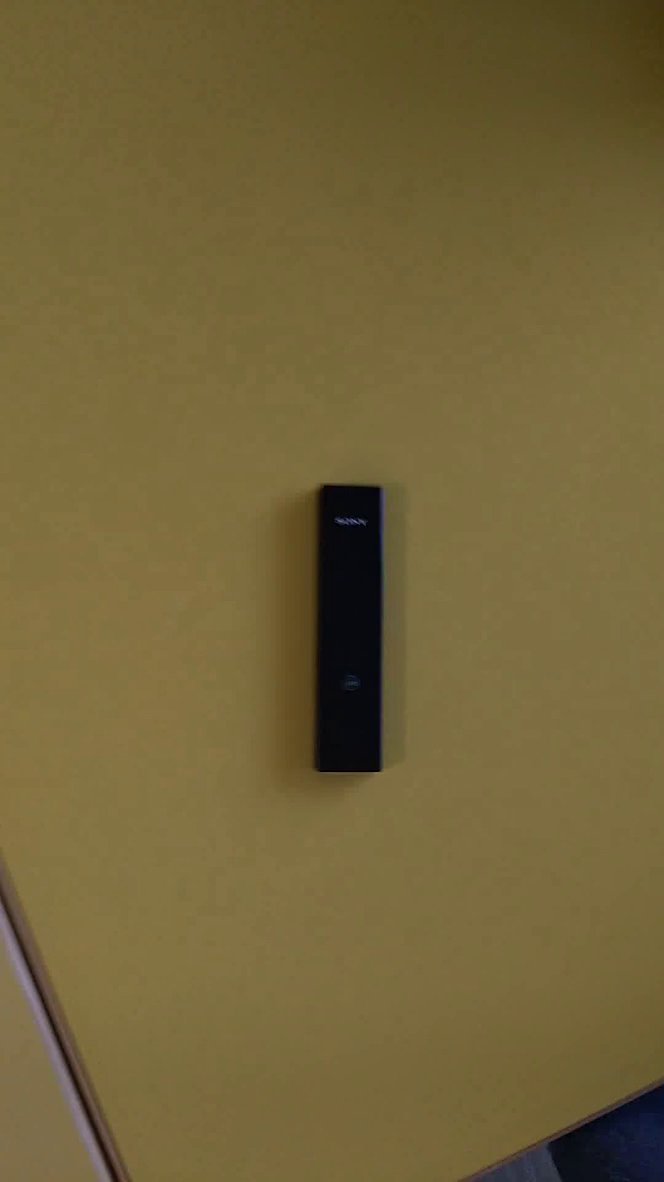remote: (297, 457, 420, 796)
